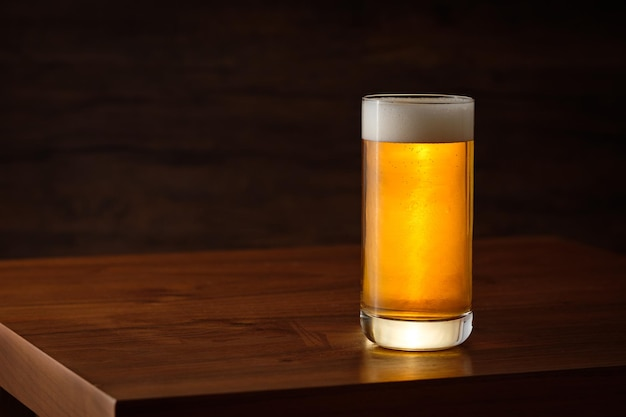alcohol: (358, 92, 477, 350)
